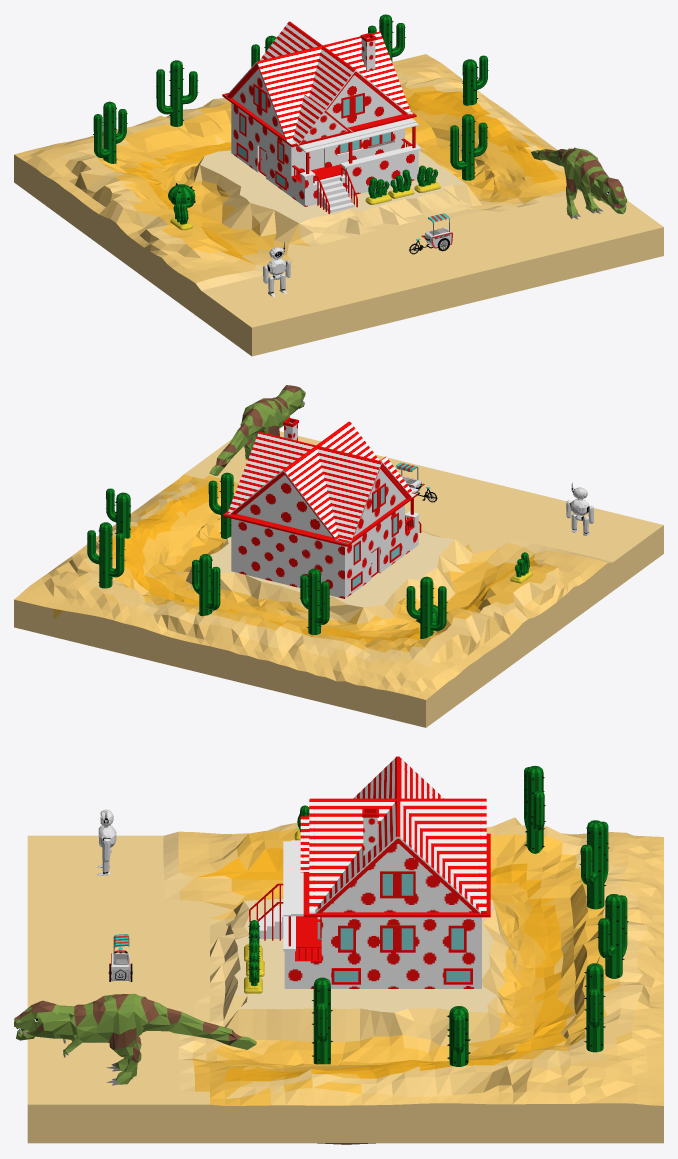
The picture shows the model from 3 angles, top to bottom: view 1: azimuth 30°, elevation 25°; view 2: azimuth 150°, elevation 25°; view 3: azimuth 270°, elevation 25°; orthographic projection. The views are drawn at different scales.
Parts seen in each view (by area): view 1: Cube.001, Cube.196, ANIMAL_TREX, Cylinder.044, Cylinder.037, Cylinder.045, Cylinder.038, OBJRANDOM_PLATZEEBOT, Cylinder.042, VEHICLES_SNOWBAL_BIKE, Cylinder.039, Cylinder.041 (+1 smaller); view 2: Cube.001, Cube.196, ANIMAL_TREX, Cylinder.042, Cylinder.045, Cylinder.044, Cylinder.043, Cylinder.037, Cylinder.038, OBJRANDOM_PLATZEEBOT; view 3: Cube.001, Cube.196, ANIMAL_TREX, Cylinder.044, Cylinder.043, Cylinder.045, Cylinder.042, Cylinder.037, Cylinder.038, VEHICLES_SNOWBAL_BIKE, OBJRANDOM_PLATZEEBOT, Cylinder.041.
Boxes of the visible parts, x1=… form: Cube.001: x1=14, y1=54, x2=663, y2=356; Cube.196: x1=222, y1=21, x2=421, y2=213; ANIMAL_TREX: x1=531, y1=147, x2=627, y2=219; Cylinder.044: x1=156, y1=60, x2=198, y2=126; Cylinder.037: x1=449, y1=114, x2=488, y2=180; Cylinder.045: x1=93, y1=101, x2=127, y2=163; Cylinder.038: x1=462, y1=55, x2=488, y2=105; OBJRANDOM_PLATZEEBOT: x1=263, y1=242, x2=290, y2=296; Cylinder.042: x1=368, y1=14, x2=405, y2=62; VEHICLES_SNOWBAL_BIKE: x1=409, y1=213, x2=452, y2=254; Cylinder.039: x1=365, y1=177, x2=391, y2=204; Cylinder.041: x1=414, y1=165, x2=440, y2=192; Cube.001: x1=14, y1=431, x2=663, y2=727; Cube.196: x1=223, y1=417, x2=421, y2=598; ANIMAL_TREX: x1=209, y1=385, x2=305, y2=475; Cylinder.042: x1=87, y1=522, x2=125, y2=588; Cylinder.045: x1=406, y1=576, x2=447, y2=638; Cylinder.044: x1=300, y1=568, x2=329, y2=634; Cylinder.043: x1=191, y1=554, x2=220, y2=616; Cylinder.037: x1=208, y1=472, x2=237, y2=538; Cylinder.038: x1=106, y1=488, x2=130, y2=538; OBJRANDOM_PLATZEEBOT: x1=566, y1=482, x2=593, y2=535; Cube.001: x1=27, y1=817, x2=663, y2=1143; Cube.196: x1=249, y1=756, x2=490, y2=988; ANIMAL_TREX: x1=14, y1=993, x2=256, y2=1085; Cylinder.044: x1=579, y1=820, x2=609, y2=909; Cylinder.043: x1=597, y1=894, x2=628, y2=978; Cylinder.045: x1=524, y1=765, x2=545, y2=853; Cylinder.042: x1=584, y1=963, x2=605, y2=1052; Cylinder.037: x1=311, y1=977, x2=332, y2=1064; Cylinder.038: x1=447, y1=1006, x2=470, y2=1066; VEHICLES_SNOWBAL_BIKE: x1=108, y1=934, x2=132, y2=981; OBJRANDOM_PLATZEEBOT: x1=97, y1=809, x2=116, y2=875; Cylinder.041: x1=244, y1=952, x2=262, y2=993.
Bounding box in the file's own units: 4002 × 1693 × 4088.
32 materials, 3 textured.
